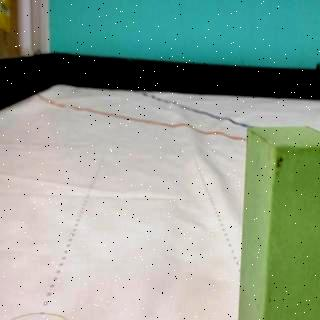greenbox: (239, 124, 320, 320)
